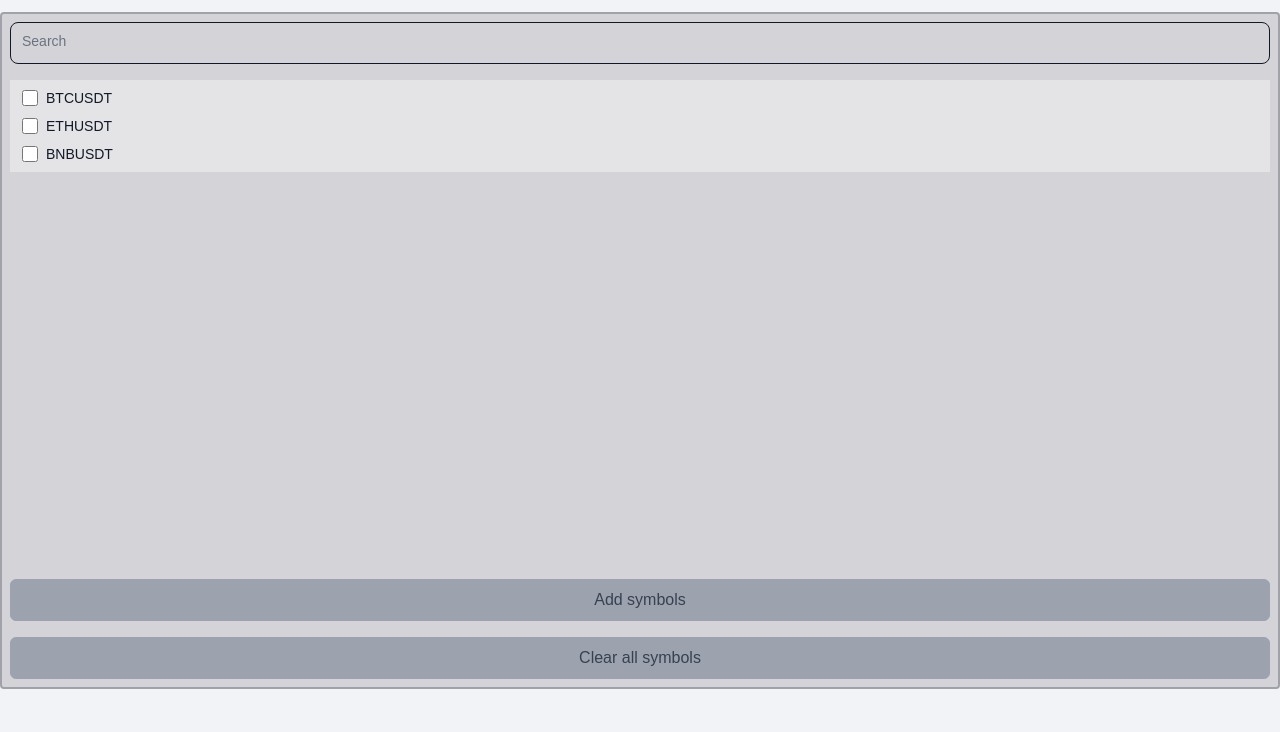
Test: ListAllSymbols Component › displays 'Not found results' message when no symbols match search input
The image size is (1280, 732).
Type "XRP" into the field labelled "Search" at (640, 43), box left=10, top=22, right=1270, bottom=64
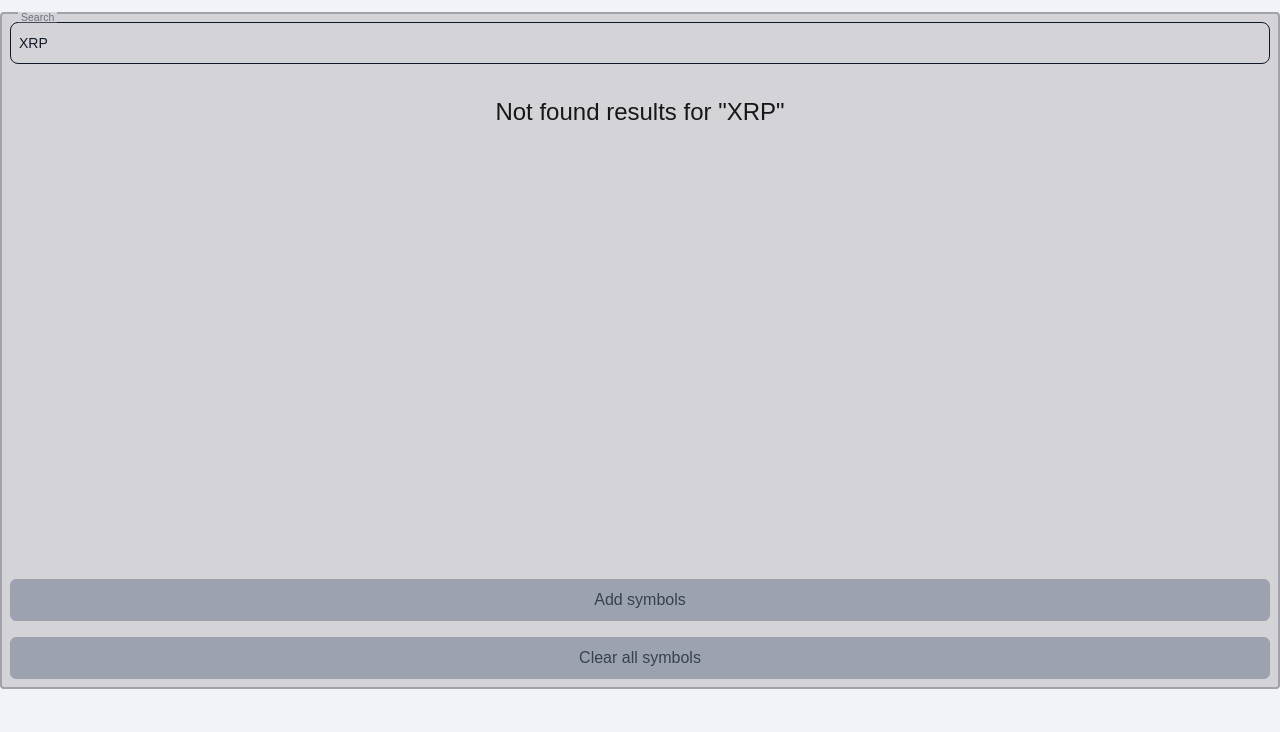
Result: the heading "Not found results for \"XRP\"" is shown at left=495, top=98, right=785, bottom=125
